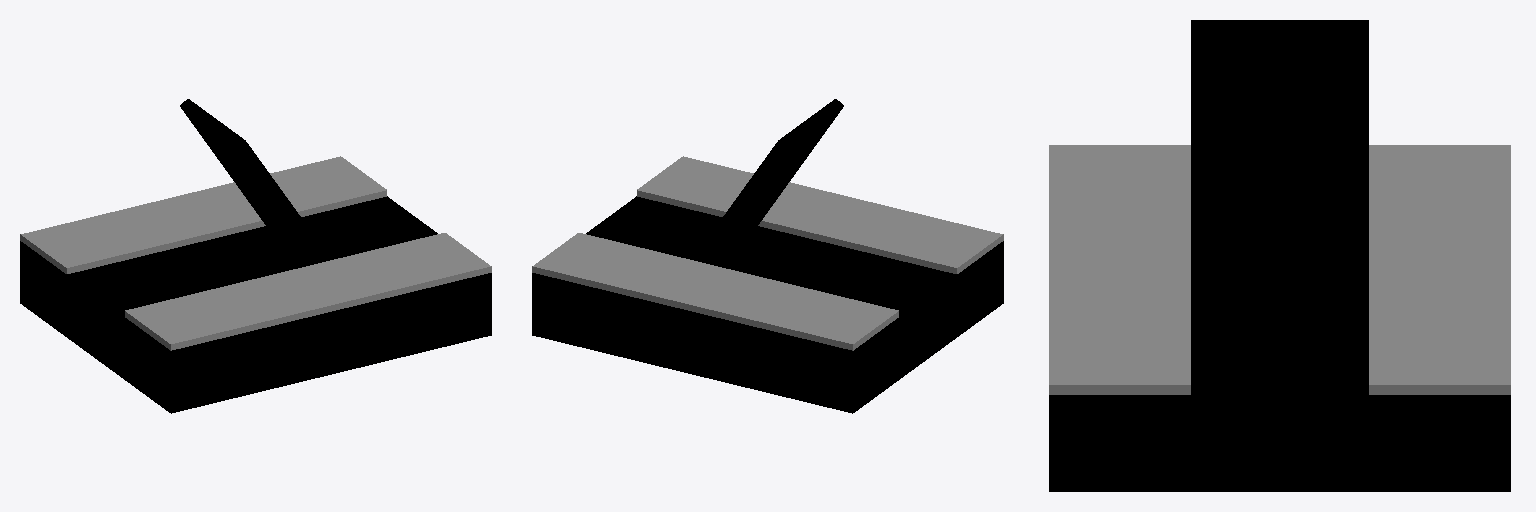
The robot description file, URDF, robot "padbot_t1":
<?xml version="1.0" ?>
<robot name="padbot_t1" xmlns:xacro="http://ros.org/wiki/xacro">
    <material name="veryDarkGrey">
        <color rgba="0.2 0.2 0.2 1.0"/>
    </material>
    <material name="light_grey">
        <color rgba="0.6 0.6 0.6 1.0"/>
    </material>
    <material name="black">
        <color rgba="0.0 0.0 0.0 1.0"/>
    </material>
    
    <link name="base_link">
        <inertial>
            <mass value="2"/>
            <origin xyz="0 0 0.0"/>
            <inertia ixx="0.01" ixy="0.0" ixz="0.0" iyy="0.01" iyz="0.0" izz="0.5"/>
        </inertial>
        <visual>
            <origin rpy="0 0 0" xyz="0 0 0"/>
            <geometry>
                <box size="0.16 0.13 0.03"/>
            </geometry>
            <material name="black"/>
        </visual>
        <collision>
            <origin rpy="0 0 0" xyz="0 0 0"/>
            <geometry>
                <box size="0.16 0.13 0.03"/>
            </geometry>
        </collision>
    </link>
    <link name="left_wheel">
        <inertial>
            <mass value="0.001"/>
            <origin xyz="0 0 0"/>
            <inertia ixx="0.0001" ixy="0.0" ixz="0.0" iyy="0.0001" iyz="0.0" izz="0.0001"/>
        </inertial>
        <visual>
            <origin rpy="0 0 0" xyz="0 0 0"/>
            <geometry>
                <box size="0.13 0.01 0.005"/>
            </geometry>
            <material name="veryDarkGrey"/>
        </visual>
        <collision>
            <origin rpy="0 0 0" xyz="0 0 0"/>
            <geometry>
                <box size="0.13 0.01 0.005"/>
            </geometry>
        </collision>
    </link>
    <link name="right_wheel">
        <inertial>
            <mass value="0.001"/>
            <origin xyz="0 0 0"/>
            <inertia ixx="0.0001" ixy="0.0" ixz="0.0" iyy="0.0001" iyz="0.0" izz="0.0001"/>
        </inertial>
        <visual>
            <origin rpy="0 0 0" xyz="0 0 0"/>
            <geometry>
                <box size="0.13 0.01 0.005"/>
            </geometry>
            <material name="veryDarkGrey"/>
        </visual>
        <collision>
            <origin rpy="0 0 0" xyz="0 0 0"/>
            <geometry>
                <box size="0.13 0.01 0.005"/>
            </geometry>
        </collision>
    </link>
    <link name="left_cover">
        <inertial>
            <mass value="0.001"/>
            <origin xyz="0 0 0"/>
            <inertia ixx="0.0001" ixy="0.0" ixz="0.0" iyy="0.0001" iyz="0.0" izz="0.0001"/>
        </inertial>
        <visual>
            <origin rpy="0 0 0" xyz="0 0 0"/>
            <geometry>
                <box size="0.16 0.04 0.003"/>
            </geometry>
            <material name="light_grey"/>
        </visual>
        <collision>
            <origin rpy="0 0 0" xyz="0 0 0"/>
            <geometry>
                <box size="0.16 0.04 0.003"/>
            </geometry>
        </collision>
    </link>
    <link name="right_cover">
        <inertial>
            <mass value="0.001"/>
            <origin xyz="0 0 0"/>
            <inertia ixx="0.0001" ixy="0.0" ixz="0.0" iyy="0.0001" iyz="0.0" izz="0.0001"/>
        </inertial>
        <visual>
            <origin rpy="0 0 0" xyz="0 0 0"/>
            <geometry>
                <box size="0.16 0.04 0.003"/>
            </geometry>
            <material name="light_grey"/>
        </visual>
        <collision>
            <origin rpy="0 0 0" xyz="0 0 0"/>
            <geometry>
                <box size="0.16 0.04 0.003"/>
            </geometry>
        </collision>
    </link>
    <link name="device_holder">
        <inertial>
            <mass value="0.001"/>
            <origin xyz="0 0 0"/>
            <inertia ixx="0.0001" ixy="0.0" ixz="0.0" iyy="0.0001" iyz="0.0" izz="0.0001"/>
        </inertial>
        <visual>
            <origin rpy="0 0 0" xyz="0 0 0"/>
            <geometry>
                <box size="0.08 0.05 0.005"/>
            </geometry>
            <material name="black"/>
        </visual>
        <collision>
            <origin rpy="0 0 0" xyz="0 0 0"/>
            <geometry>
                <box size="0.08 0.05 0.005"/>
            </geometry>
        </collision>
    </link>
    
    <joint name="left_wheel_joint" type="fixed">
        <origin rpy="0 0 0" xyz="0 0.049 -0.0175"/>
        <parent link="base_link"/>
        <child link="left_wheel"/>
    </joint>   
    <joint name="right_wheel_joint" type="fixed">
        <origin rpy="0 0 0" xyz="0 -0.049 -0.0175"/>
        <parent link="base_link"/>
        <child link="right_wheel"/>
    </joint>  
    <joint name="left_cover_joint" type="fixed">
        <origin rpy="0 0 0" xyz="0 0.045 0.0165"/>
        <parent link="base_link"/>
        <child link="left_cover"/>
    </joint>   
    <joint name="right_cover_joint" type="fixed">
        <origin rpy="0 0 0" xyz="0 -0.045 0.0165"/>
        <parent link="base_link"/>
        <child link="right_cover"/>
    </joint>  
    <joint name="device_holder_joint" type="fixed">
        <origin rpy="0 1 0" xyz="0 0 0.05"/>
        <parent link="base_link"/>
        <child link="device_holder"/>
    </joint>  
</robot>

--- Facts derived from the render (not from the file) ---
Views: 3 orthographic renders of the robot side by side, from view 1: azimuth 30°, elevation 25°; view 2: azimuth 150°, elevation 25°; view 3: azimuth 270°, elevation 25°.
Model padbot_t1 with 6 links and 5 joints (5 fixed), rooted at base_link, posed every joint at zero.
Links seen in each view (by area): view 1: base_link, right_cover, left_cover, device_holder; view 2: base_link, left_cover, right_cover, device_holder; view 3: base_link, device_holder, left_cover, right_cover.
Boxes of the visible links, x1,y1,x2,y2 form: base_link: (20,196,491,413); right_cover: (125,233,491,350); left_cover: (20,156,386,273); device_holder: (180,99,331,263); base_link: (532,196,1003,413); left_cover: (532,233,898,350); right_cover: (637,156,1003,273); device_holder: (692,99,843,263); base_link: (1049,304,1510,491); device_holder: (1191,20,1368,303); left_cover: (1369,145,1510,394); right_cover: (1049,145,1190,394).
Size in the robot's own frame: 0.16 by 0.13 by 0.105 metres.
Geometry: primitives only (box / cylinder / sphere), no mesh files.